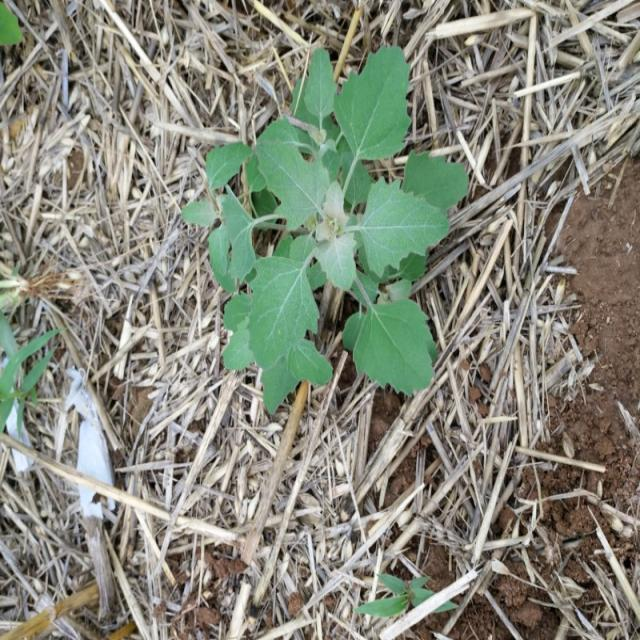goosefoots: (194, 57, 467, 394)
